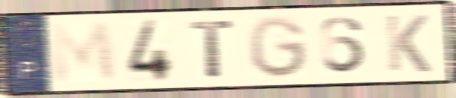4: (125, 17, 175, 84)
6: (318, 15, 368, 76)
G: (246, 14, 310, 81)
K: (382, 13, 433, 75)
M: (47, 20, 120, 86)
T: (188, 18, 237, 80)
